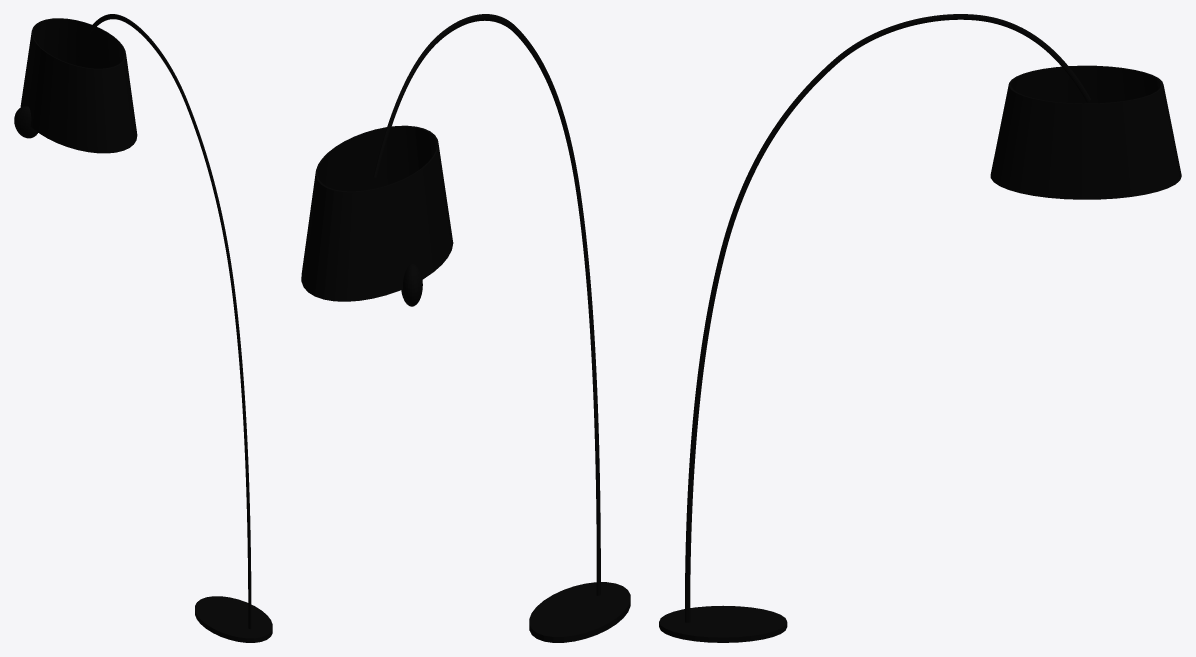
Rendered from lamp_floor_lamp_0.glb.
3 views of the same model, side by side, from view 1: azimuth 30°, elevation 25°; view 2: azimuth 150°, elevation 25°; view 3: azimuth 270°, elevation 25° (orthographic). The views are drawn at different scales.
Visible parts, largest first — view 1: lamp_floor_lamp_0; view 2: lamp_floor_lamp_0; view 3: lamp_floor_lamp_0.
Part boxes in pixels (x1,y1,x2,y2): lamp_floor_lamp_0: (14,14,272,642); lamp_floor_lamp_0: (301,14,630,642); lamp_floor_lamp_0: (659,14,1181,642).
Bounding box in the file's own units: 0.2863 × 1.6 × 1.24.
1 material, 1 textured.
